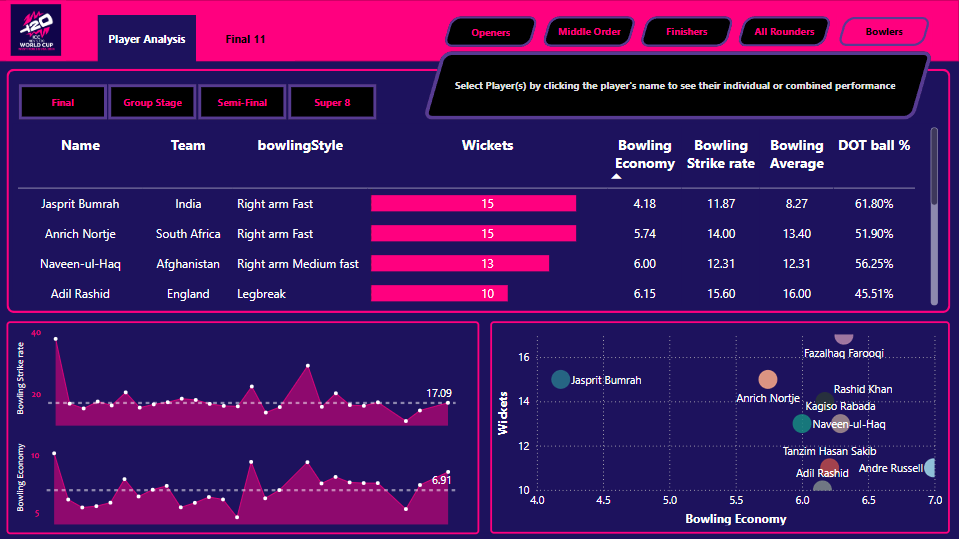

What the dashboard file says about the page in this screenshot:
{"tool":"powerbi","page":{"name":"Bowlers","canvas":[1280,720],"ordinal":5},"visuals":[{"type":"shape","box":[565.6,67.8,680.6,91.2],"z":0,"group":"g3"},{"type":"shape","box":[10,91.4,1258.6,325.7],"z":0,"group":"g2"},{"type":"shape","box":[10,427.5,630,283.8],"z":0},{"type":"group","id":"g1","title":"Group 2","box":[619.4,75.8,563.3,64.4],"z":1000,"group":"g3"},{"type":"group","id":"g2","title":"Group 1","box":[10,91.4,1258.6,325.7],"z":1000},{"type":"tableEx","fields":{"Values":["dim_players.name","dim_players.team","dim_players.bowlingStyle","Measures (3).Wickets","Measures (3).Bowling Economy","Measures (3).Bowling Strike rate","Measures (3).Bowling Average","Measures (3).DOT ball %"]},"box":[18.2,164,1238.4,247.7],"z":1000,"group":"g2"},{"type":"shape","box":[0,0,1280,81.8],"z":2000},{"type":"card","fields":{"Values":["Measures (3).Bowling Average"]},"box":[619.4,75.8,130.1,66.5],"z":3000,"group":"g1"},{"type":"slicer","fields":{"Values":["dim_match_summary.Stage"]},"box":[0,105.7,526.9,61.7],"z":3000},{"type":"group","id":"g3","title":"Group 3","box":[565.6,67.8,680.6,91.2],"z":4000},{"type":"card","fields":{"Values":["Measures (3).DOT ball %"]},"box":[764.7,76,129.8,66.6],"z":4000,"group":"g1"},{"type":"image","box":[9.6,0,79.6,81],"z":5000},{"type":"card","fields":{"Values":["Measures (3).Bowling Strike rate"]},"box":[909.2,76,129.8,66.6],"z":5000,"group":"g1"},{"type":"actionButton","box":[132,20,131,63],"z":6000},{"type":"card","fields":{"Values":["Measures (3).Bowling Economy"]},"box":[1053.6,76,129.8,66.6],"z":6000,"group":"g1"},{"type":"actionButton","box":[263.1,20,131.2,61.2],"z":7000},{"type":"group","id":"g4","title":"Group 4","box":[591.8,22.4,652.9,41.2],"z":8000},{"type":"actionButton","box":[591.8,22.7,127.9,40.9],"z":9000,"group":"g4"},{"type":"shape","box":[577.8,93.3,646.7,40],"z":9000},{"type":"actionButton","box":[722.7,23,127.3,40.6],"z":10000,"group":"g4"},{"type":"group","id":"g5","title":"Group 5","box":[18.8,427.5,596.2,275],"z":10000},{"type":"areaChart","fields":{"Y":["Measures (3).Bowling Economy"],"Category":["dim_match_summary.matchDate"]},"box":[18.8,560.2,595.7,142.9],"z":10000,"group":"g5"},{"type":"actionButton","box":[853.9,22.4,127.3,40.6],"z":11000,"group":"g4"},{"type":"areaChart","fields":{"Y":["Measures (3).Bowling Strike rate"],"Category":["dim_match_summary.matchDate"]},"box":[18.8,427.5,595.5,144.5],"z":11000,"group":"g5"},{"type":"scatterChart","fields":{"X":["Measures (3).Bowling Economy"],"Y":["Measures (3).Wickets"],"Series":["dim_players.name"]},"box":[655.7,428.6,612.9,282.9],"z":11000},{"type":"actionButton","box":[14.4,5,70,71.2],"z":12000},{"type":"actionButton","box":[984.2,23,127.6,40.3],"z":12000,"group":"g4"},{"type":"actionButton","box":[1117,22.5,127.6,41],"z":13000,"group":"g4"}]}

Visuals, with their boxes in screenshot pixels (x1, y1, x2, y2), scaled from the page's 1280x720 canvas onto the 959x539 screenshot:
shape: [424,51,934,119]
shape: [7,68,950,312]
shape: [7,320,480,532]
"Group 2" group: [464,57,886,105]
"Group 1" group: [7,68,950,312]
tableEx - dim_players.name x dim_players.team: [14,123,941,308]
shape: [0,0,958,61]
card - Measures (3).Bowling Average: [464,57,562,107]
slicer - dim_match_summary.Stage: [0,79,395,125]
"Group 3" group: [424,51,934,119]
card - Measures (3).DOT ball %: [573,57,670,107]
image: [7,0,67,61]
card - Measures (3).Bowling Strike rate: [681,57,778,107]
actionButton: [99,15,197,62]
card - Measures (3).Bowling Economy: [789,57,887,107]
actionButton: [197,15,295,61]
"Group 4" group: [443,17,933,48]
actionButton: [443,17,539,48]
shape: [433,70,917,100]
actionButton: [541,17,637,48]
"Group 5" group: [14,320,461,526]
areaChart - Measures (3).Bowling Economy x dim_match_summary.matchDate: [14,419,460,526]
actionButton: [640,17,735,47]
areaChart - Measures (3).Bowling Strike rate x dim_match_summary.matchDate: [14,320,460,428]
scatterChart - Measures (3).Bowling Economy x Measures (3).Wickets: [491,321,950,533]
actionButton: [11,4,63,57]
actionButton: [737,17,833,47]
actionButton: [837,17,932,48]
